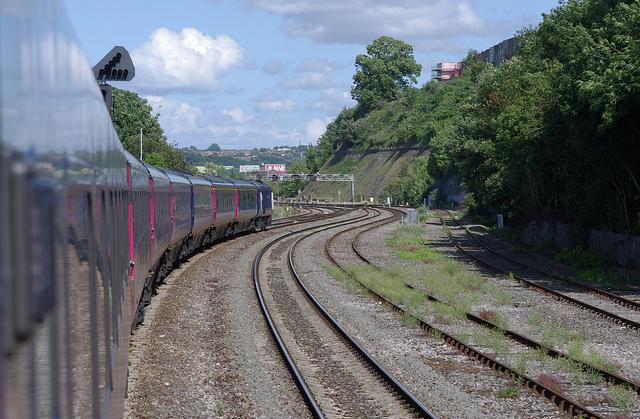Train: (0, 3, 276, 416)
